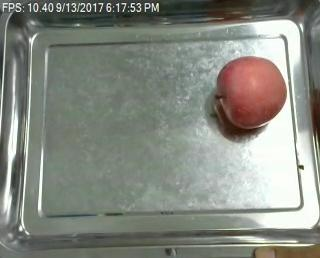apple: (217, 56, 286, 128)
